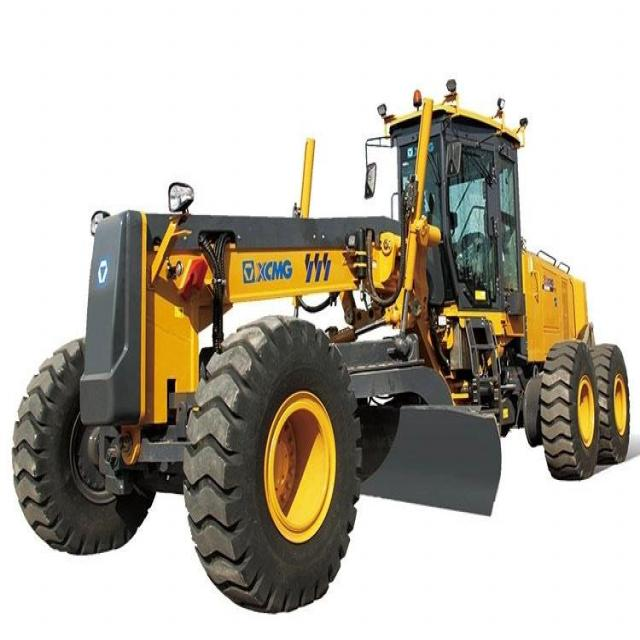Grader: (13, 76, 636, 613)
